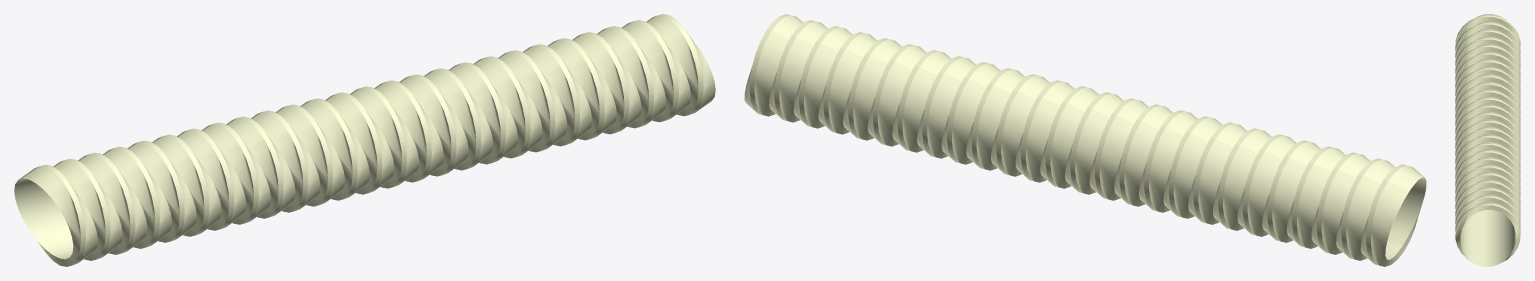
Rendered from original-81.obj.
3 views of the same model, side by side, from view 1: azimuth 30°, elevation 25°; view 2: azimuth 150°, elevation 25°; view 3: azimuth 270°, elevation 25° (orthographic). The views are drawn at different scales.
Visible parts, largest first — view 1: _1_1/_1/mesh112/mesh112-geometry#mesh112-geometry; view 2: _1_1/_1/mesh112/mesh112-geometry#mesh112-geometry; view 3: _1_1/_1/mesh112/mesh112-geometry#mesh112-geometry.
Part boxes in pixels (x1=…): _1_1/_1/mesh112/mesh112-geometry#mesh112-geometry: x1=14, y1=14, x2=715, y2=266; _1_1/_1/mesh112/mesh112-geometry#mesh112-geometry: x1=744, y1=14, x2=1426, y2=266; _1_1/_1/mesh112/mesh112-geometry#mesh112-geometry: x1=1455, y1=14, x2=1520, y2=266.
Bounding box in the file's own units: 0.0483 × 0.00654 × 0.00655.
